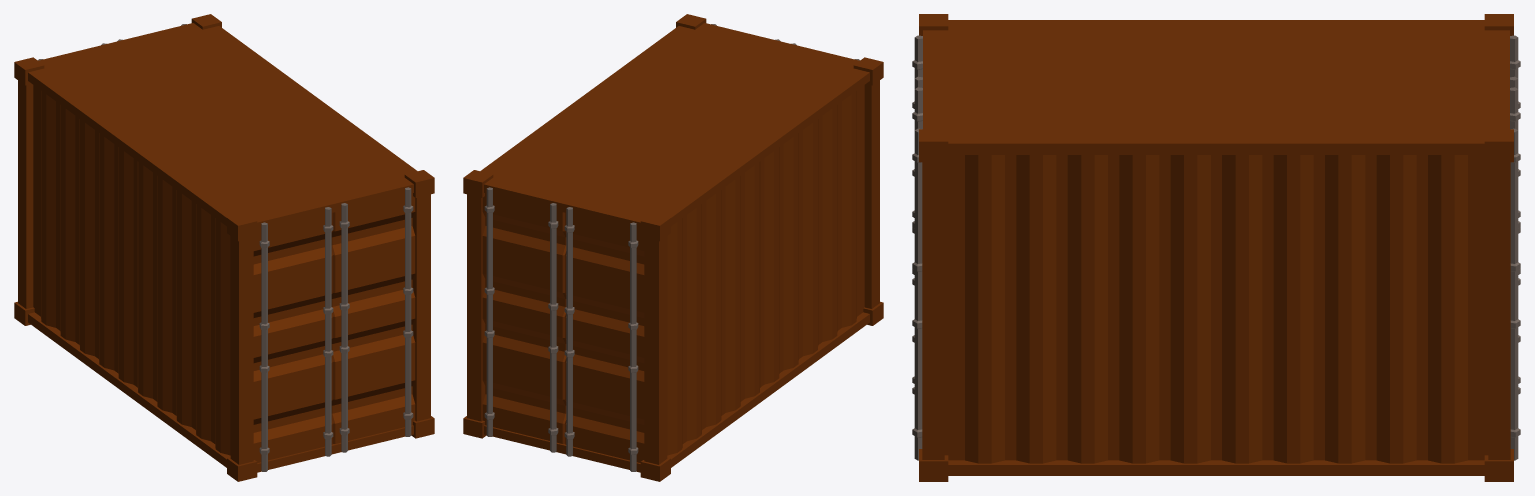
File: LP_PostApoc_2x4_ShippingContainer.fbx
3 views of the same model, side by side, from view 1: azimuth 30°, elevation 25°; view 2: azimuth 150°, elevation 25°; view 3: azimuth 270°, elevation 25° (orthographic). The views are drawn at different scales.
Parts seen in each view (by area): view 1: 2x4_ShippingContainer; view 2: 2x4_ShippingContainer; view 3: 2x4_ShippingContainer.
Part boxes in pixels (x1,y1,x2,y2): 2x4_ShippingContainer: (14,14,434,481); 2x4_ShippingContainer: (463,14,883,481); 2x4_ShippingContainer: (912,14,1520,481).
Size of the model in its own units: 206 by 256 by 415.
